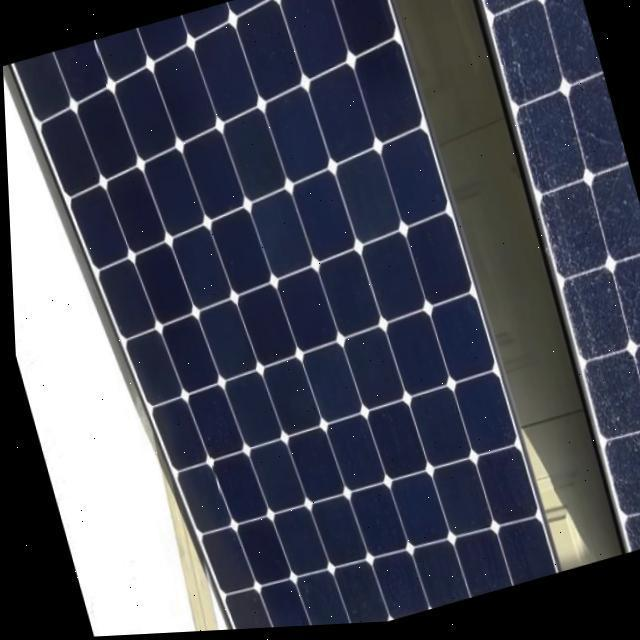Normal Solar Panel: (9, 0, 555, 640)
